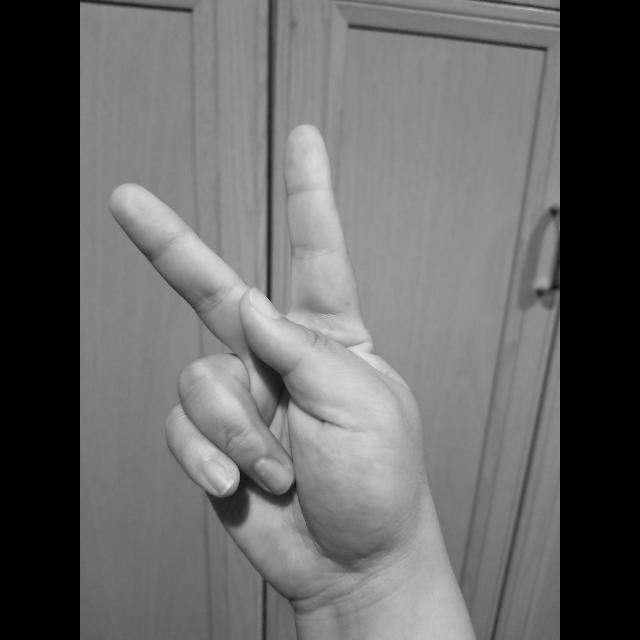K: (100, 117, 446, 606)
